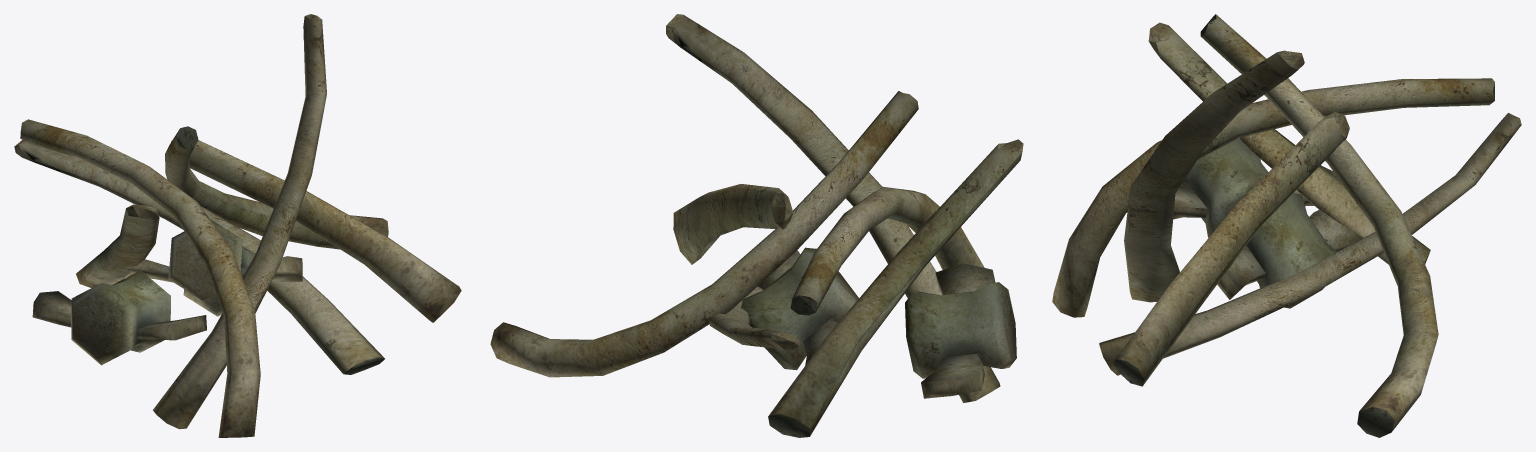
Rendered from bone_whale_lump02.fbx.
3 renders of one model, left to right at view 1: azimuth 30°, elevation 25°; view 2: azimuth 150°, elevation 25°; view 3: azimuth 270°, elevation 25°, orthographic. The views are drawn at different scales.
Visible parts, largest first — view 1: bone_whale_lump02; view 2: bone_whale_lump02; view 3: bone_whale_lump02.
Part boxes in pixels (box(x1,y1,x2,y2)): bone_whale_lump02: box(14, 14, 461, 437); bone_whale_lump02: box(490, 14, 1023, 437); bone_whale_lump02: box(1052, 14, 1521, 437).
Size of the model in its own units: 11.79 by 9.32 by 11.04.
